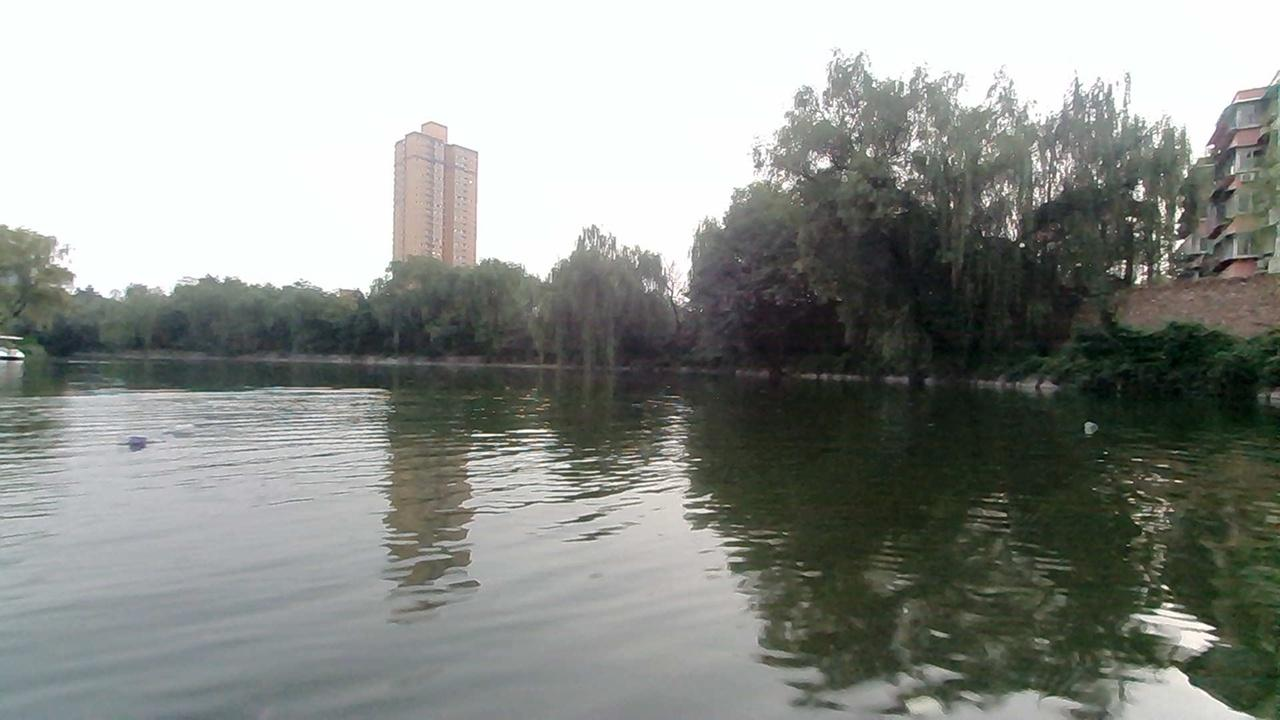bottle: (161, 423, 196, 434), (115, 435, 150, 445), (1083, 421, 1099, 429)
